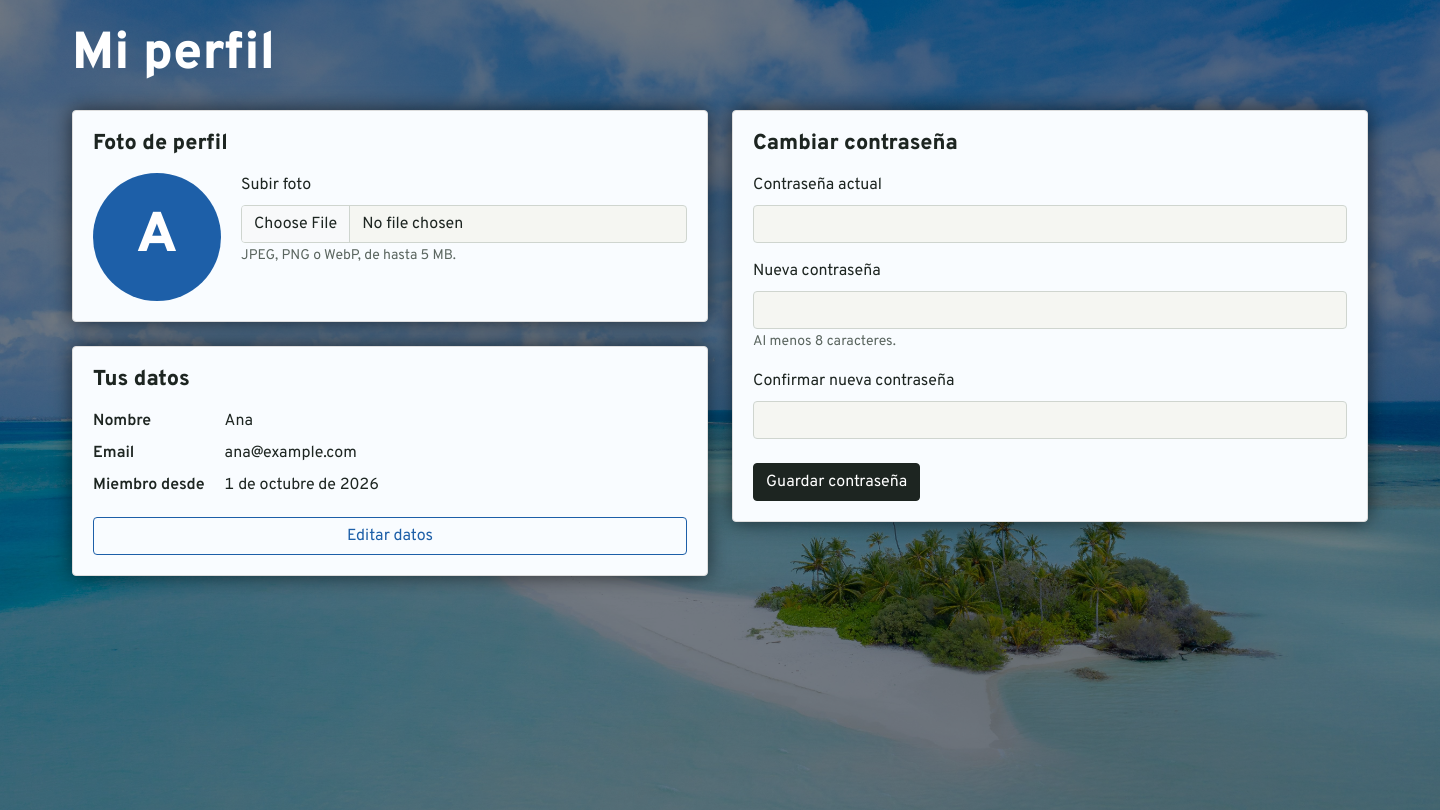
Test case: B3 ProfilePage details › a taken email is explained under the email field and edit mode stays open
The image size is (1440, 810).
Expected: the heading "Tus datos" is shown, [93,366,190,393]
Click the button "Editar datos": click(390, 536) [93,517,687,555]
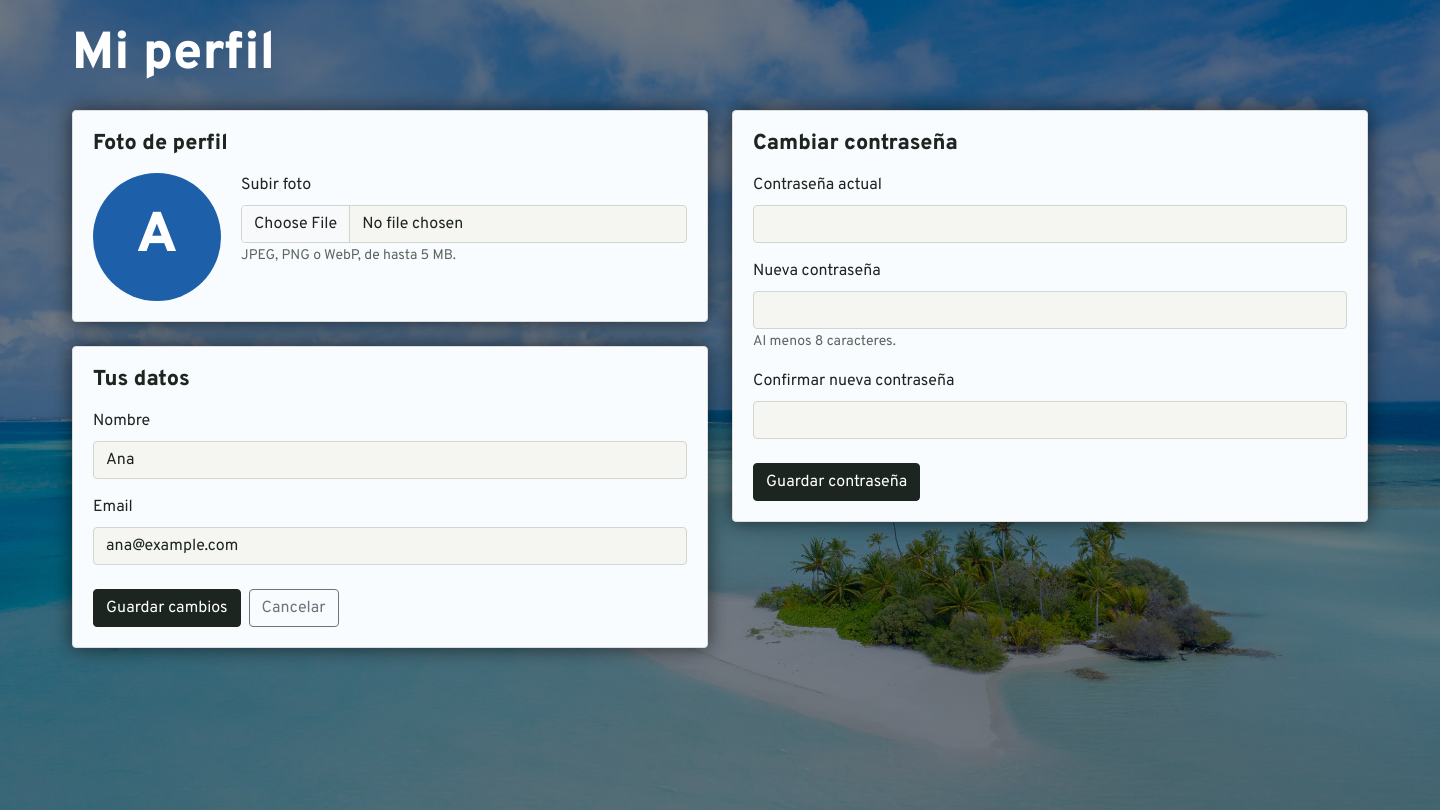
Replace the text in the field labelled "Email" with "bob@example.com": (390, 546) [93,527,687,565]
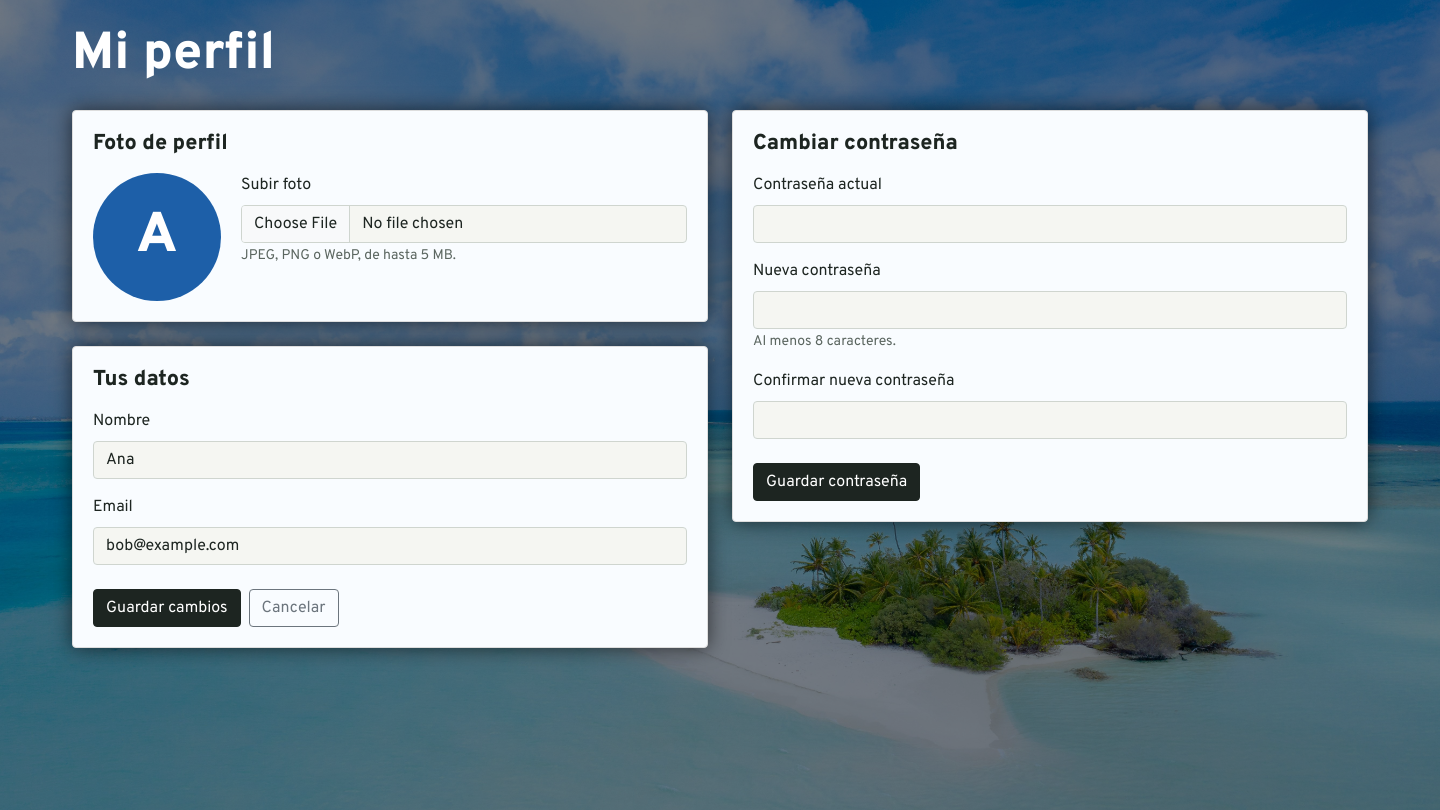
Click the button "Guardar cambios": click(167, 608) [93,589,240,627]
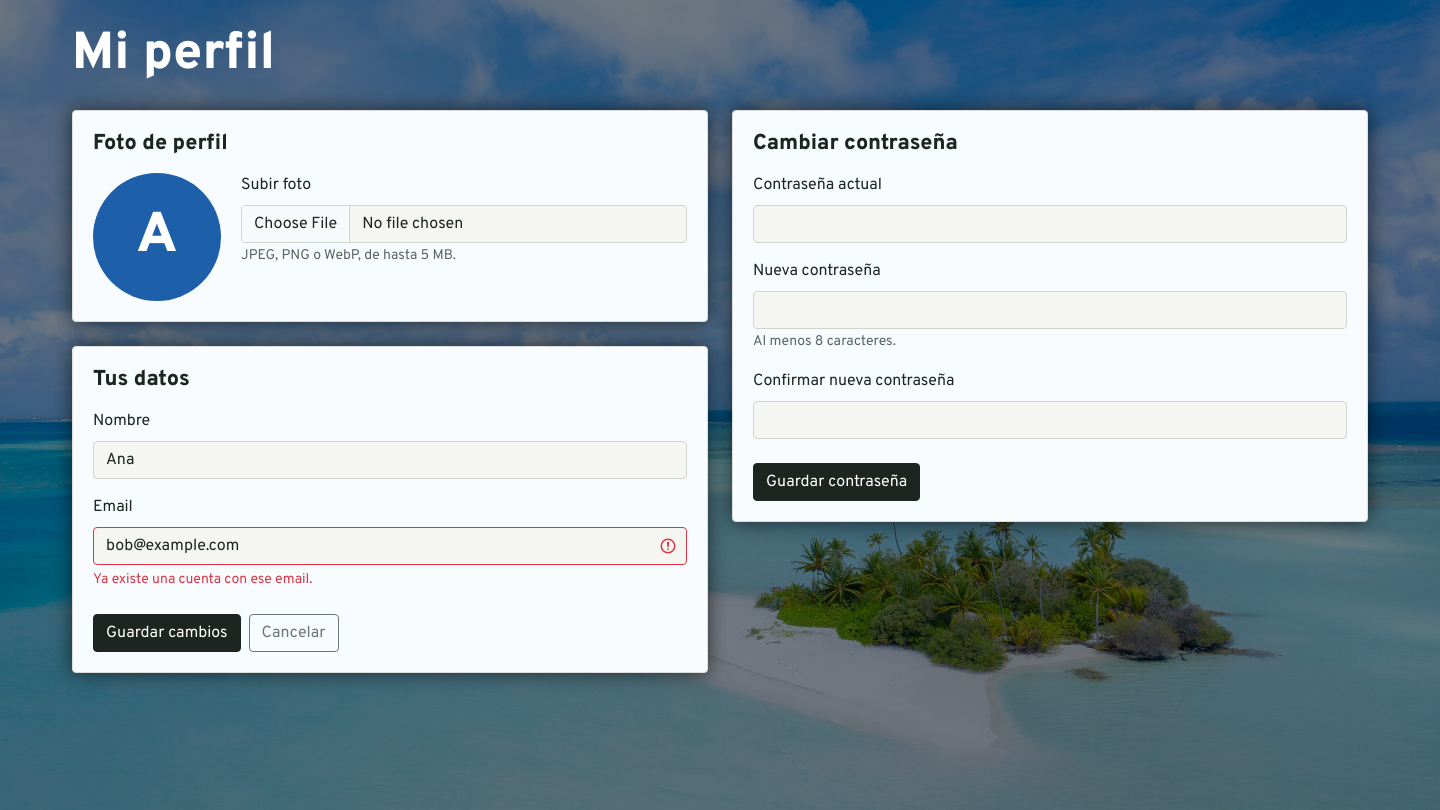
Now the text "Ya existe una cuenta con ese email." is shown, box [93,571,312,588]
